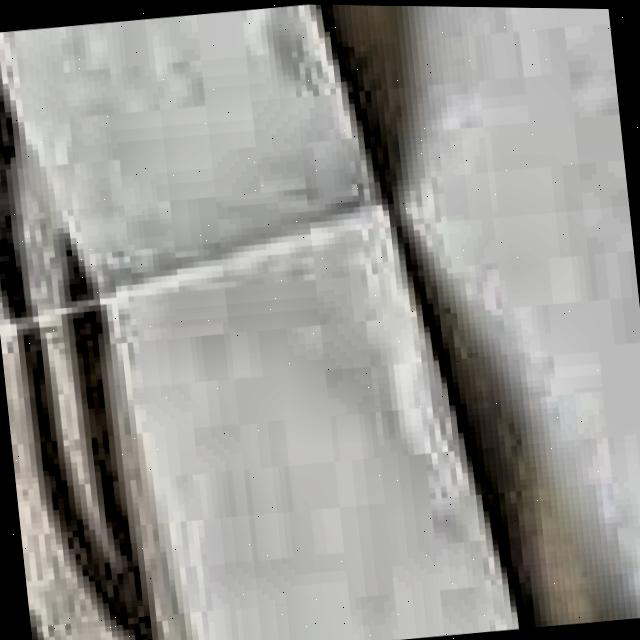paper: (0, 4, 640, 640)
